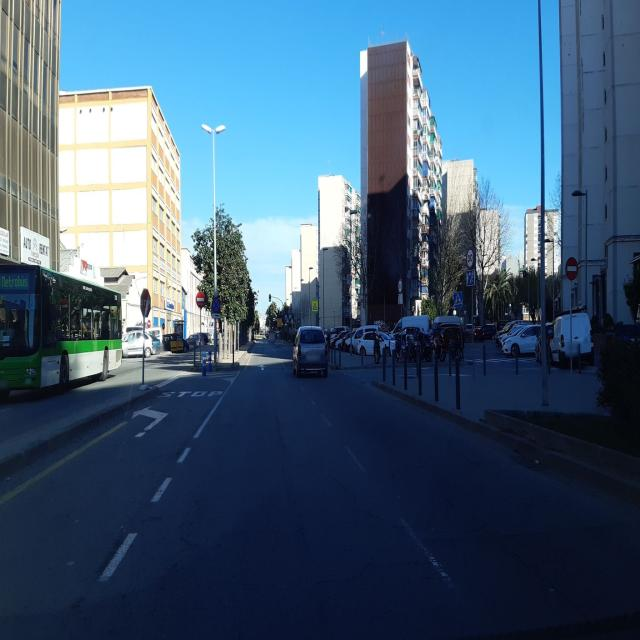forb_stopping: (211, 297, 221, 314)
